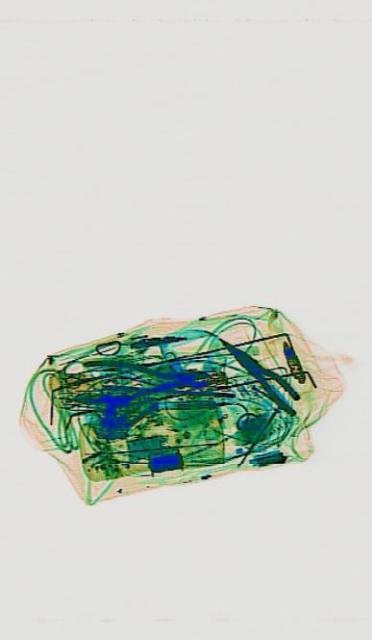Pliers: (211, 322, 298, 418), (73, 356, 207, 406)
